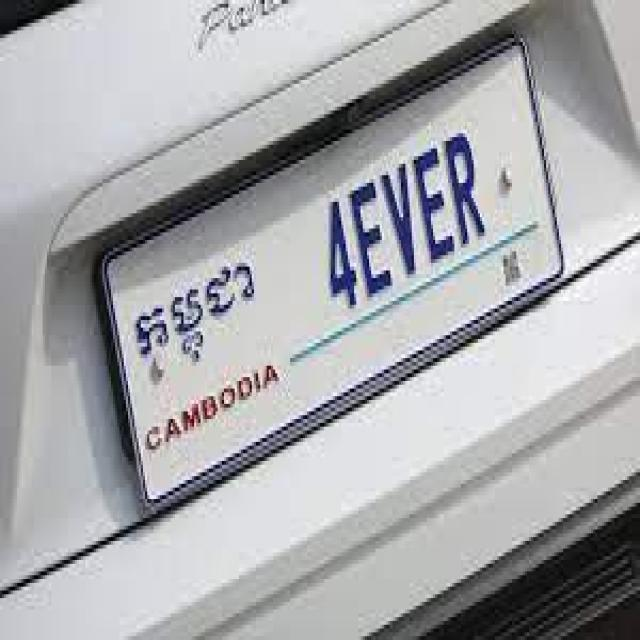Cambodia: (135, 255, 260, 367)
